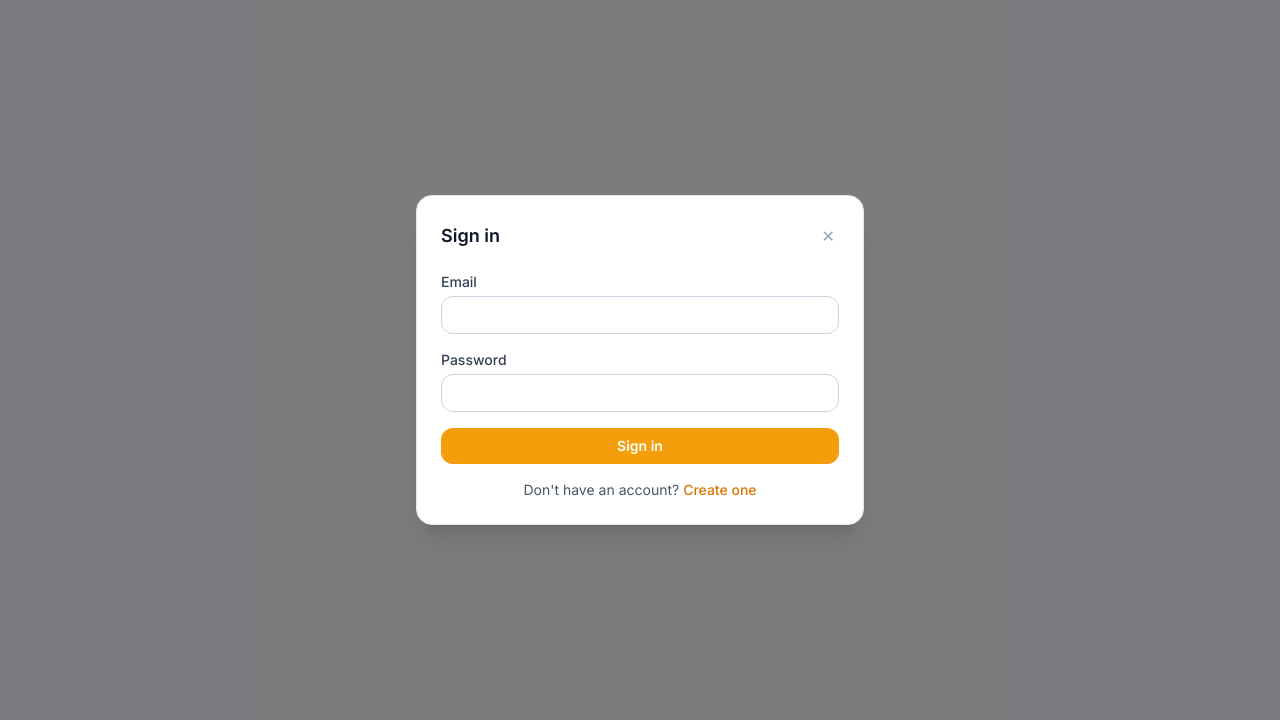
Test: AuthModal › shows an error message on failed sign-in
The width and height of the screenshot is (1280, 720).
Type "a@b.com" into the field labelled "Email" at (640, 315), box [441,296,839,334]
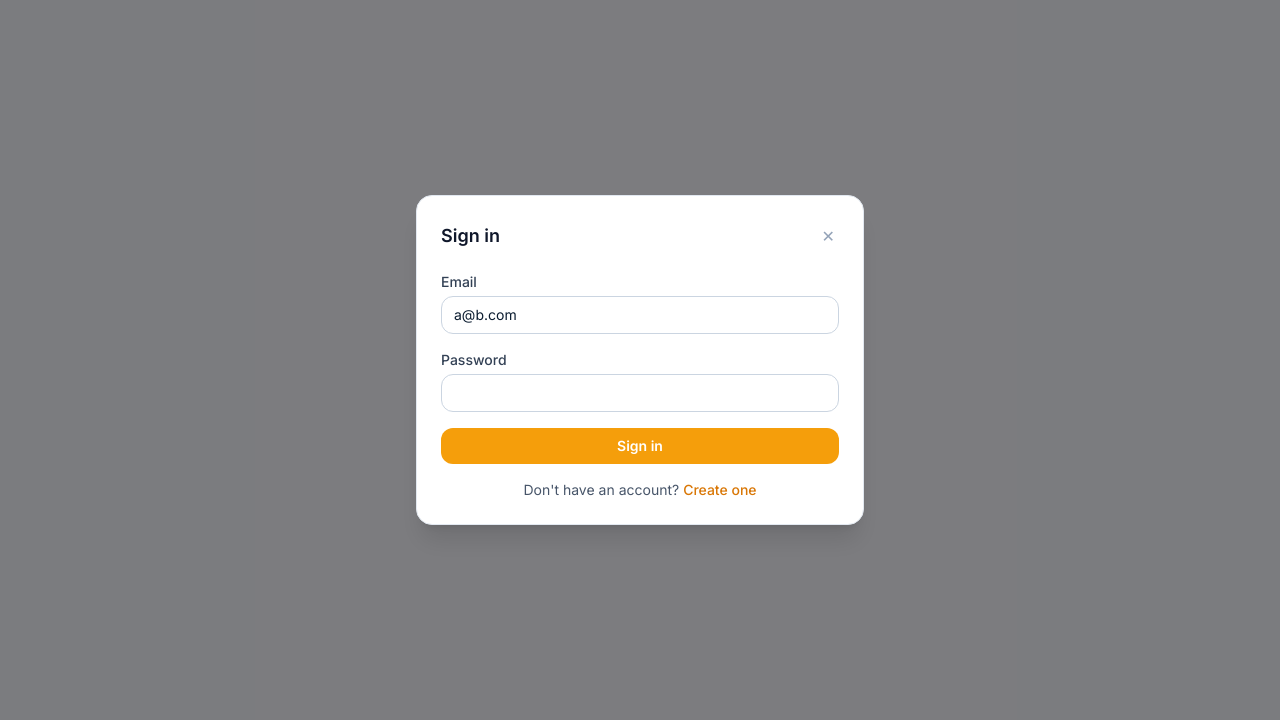
Type "wrongpass" into the password field labelled "Password" at (640, 393), box [441,374,839,412]
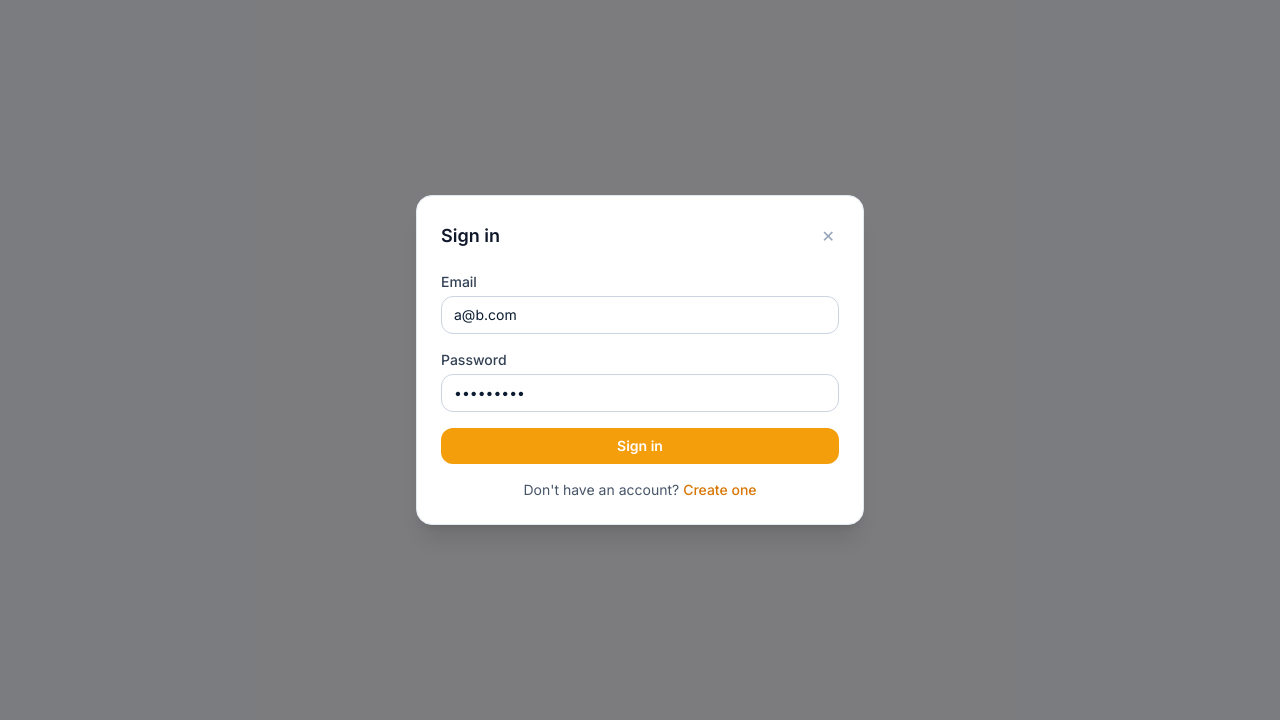
Submit the form "Sign in", box [441,272,839,464]
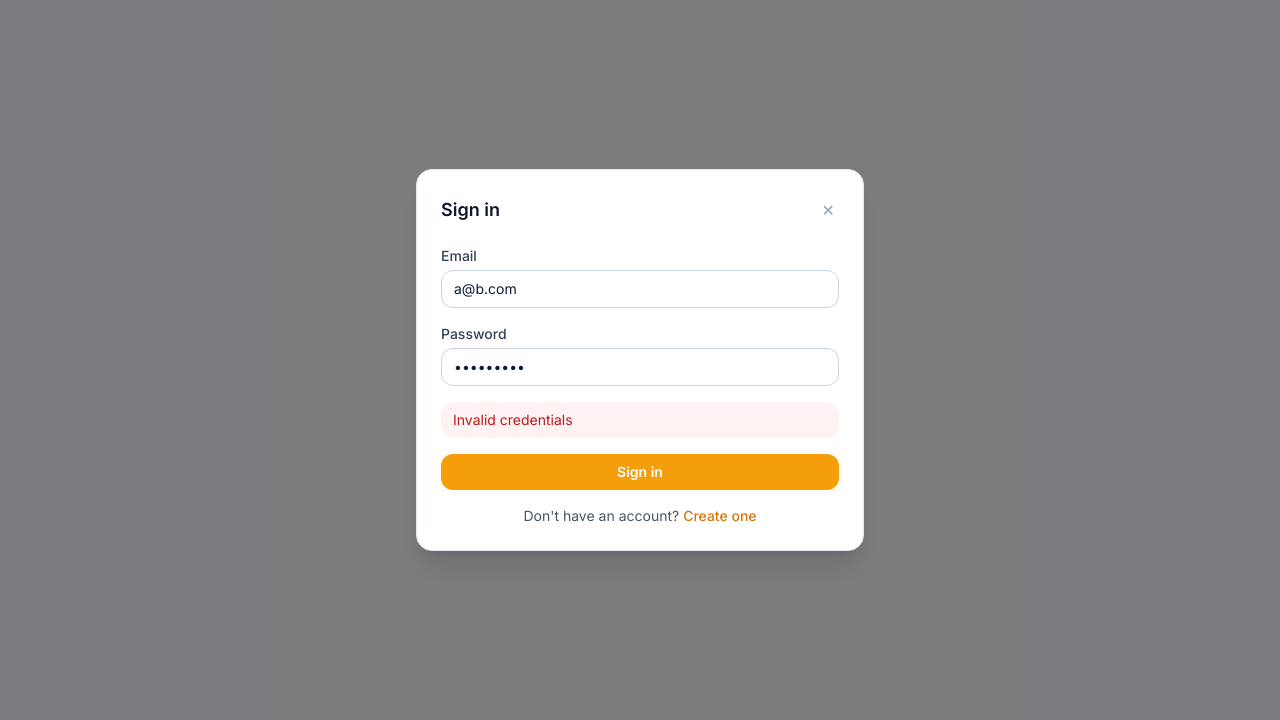
Now the message reads "Invalid credentials", box [453,411,573,428]
